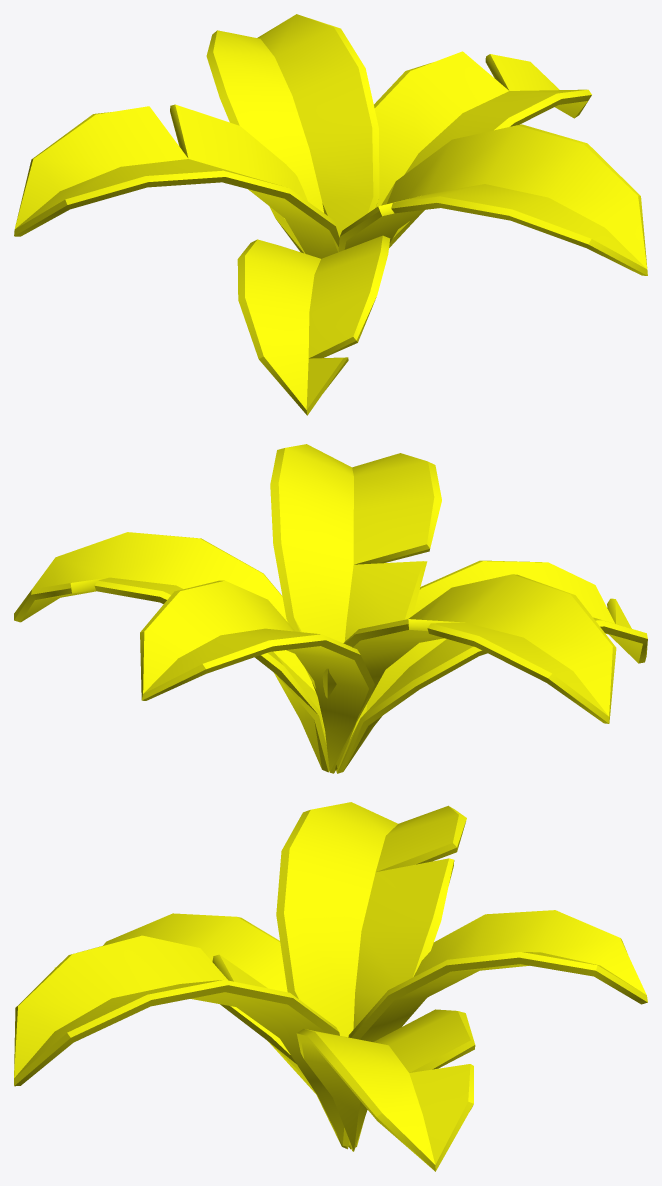
The picture shows the model from 3 angles, top to bottom: view 1: azimuth 30°, elevation 25°; view 2: azimuth 150°, elevation 25°; view 3: azimuth 270°, elevation 25°; orthographic projection. The views are drawn at different scales.
Parts seen in each view (by area): view 1: military_plant; view 2: military_plant; view 3: military_plant.
Boxes of the visible parts, left/top/right/bottom form: military_plant: left=14, top=14, right=647, bottom=415; military_plant: left=14, top=444, right=647, bottom=773; military_plant: left=14, top=802, right=647, bottom=1171.
Bounding box in the file's own units: 0.0134 × 0.00495 × 0.0121.
Materials: 1 (1 with a texture image).
